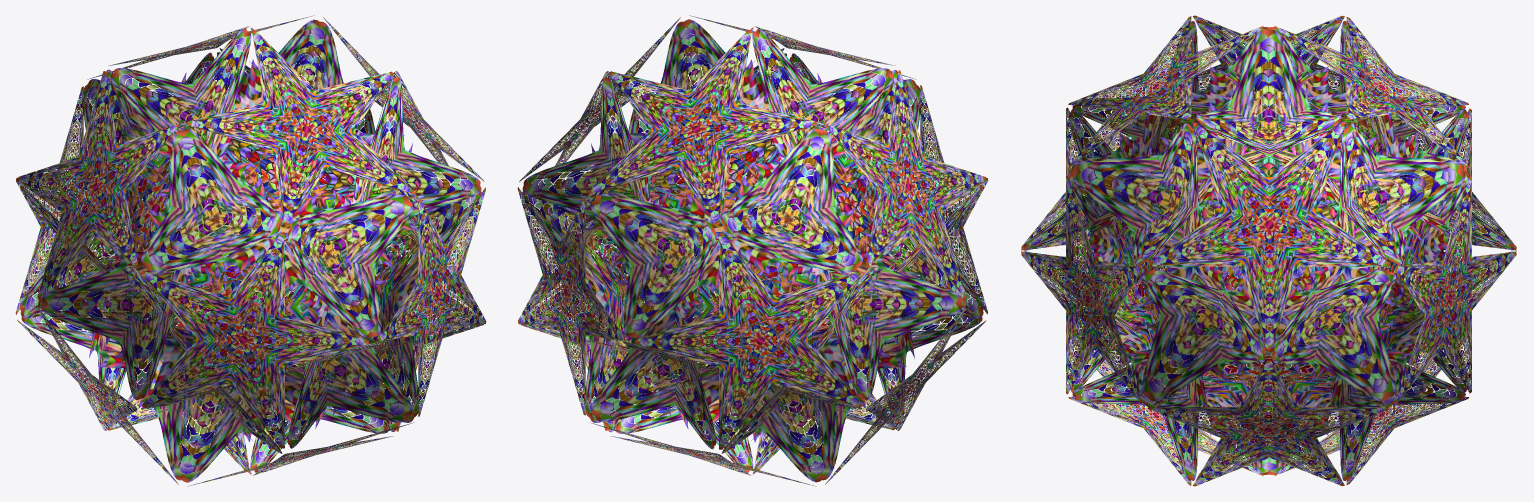
The model's file is 11Dodecadodecahedron.gltf.
3 views of the same model, side by side, from view 1: azimuth 30°, elevation 25°; view 2: azimuth 150°, elevation 25°; view 3: azimuth 270°, elevation 25° (orthographic).
Visible parts, largest first — view 1: 7Dodecadodecahedron; view 2: 7Dodecadodecahedron; view 3: 7Dodecadodecahedron.
Boxes of the visible parts, bbox=[...] form: 7Dodecadodecahedron: bbox=[15, 15, 486, 486]; 7Dodecadodecahedron: bbox=[517, 15, 988, 486]; 7Dodecadodecahedron: bbox=[1021, 15, 1516, 486].
Bounding box in the file's own units: 2 × 2 × 2.
Materials: 1 (1 with a texture image).
